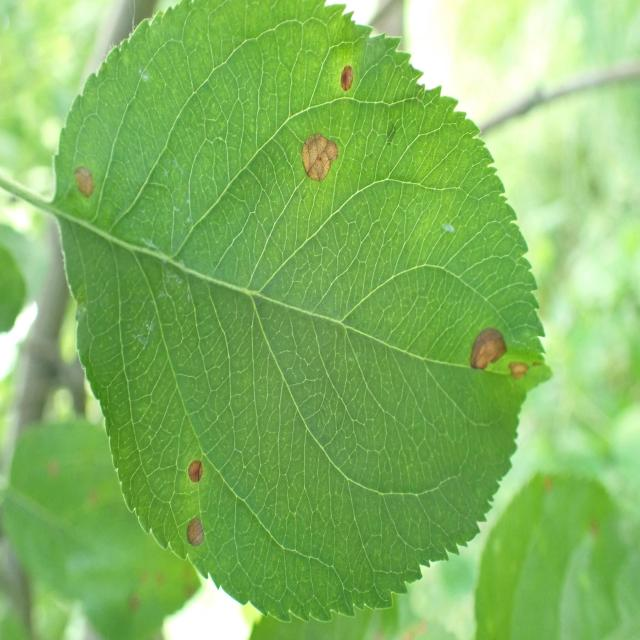Black Rot: (460, 288, 540, 405), (284, 122, 338, 208), (66, 146, 110, 242), (329, 34, 367, 104), (175, 502, 217, 552), (177, 447, 219, 495)
